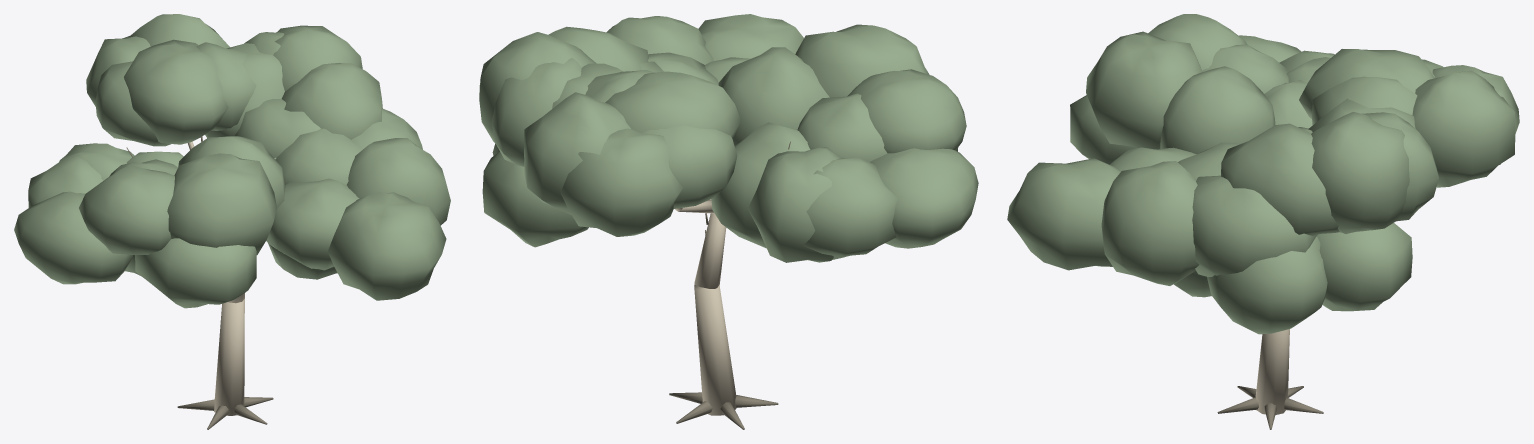
File: beta_tree_citrus.glb
3 renders of one model, left to right at view 1: azimuth 30°, elevation 25°; view 2: azimuth 150°, elevation 25°; view 3: azimuth 270°, elevation 25°, orthographic. The views are drawn at different scales.
Visible parts, largest first — view 1: Canopy soft sage foliage.007, Beta pale peeling bark.007, Beta dark bark ridges.008; view 2: Canopy soft sage foliage.007, Beta pale peeling bark.007, Beta dark bark ridges.008; view 3: Canopy soft sage foliage.007, Beta pale peeling bark.007, Beta dark bark ridges.008.
Part boxes in pixels (<box>): Canopy soft sage foliage.007: <box>14,14,450,308</box>; Beta pale peeling bark.007: <box>187,141,244,415</box>; Beta dark bark ridges.008: <box>126,136,273,429</box>; Canopy soft sage foliage.007: <box>479,14,978,262</box>; Beta pale peeling bark.007: <box>675,199,736,415</box>; Beta dark bark ridges.008: <box>669,141,790,429</box>; Canopy soft sage foliage.007: <box>1007,14,1519,334</box>; Beta pale peeling bark.007: <box>1255,329,1289,414</box>; Beta dark bark ridges.008: <box>1217,386,1323,429</box>.
Bounding box in the file's own units: 7.72 × 5.99 × 7.86.
